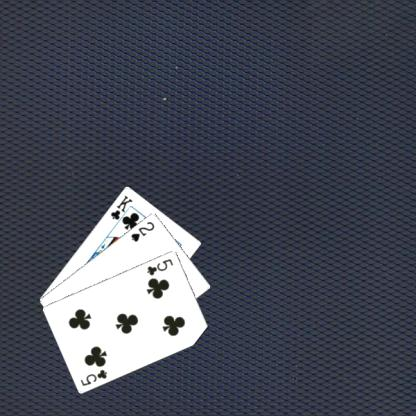2S: (128, 218, 156, 243)
5C: (78, 366, 108, 387), (145, 256, 174, 276)
KC: (108, 192, 134, 226)
